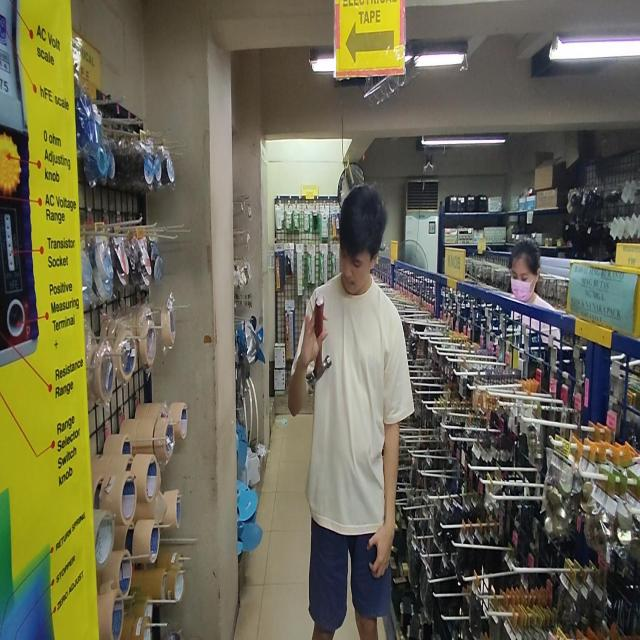hammer: (308, 296, 332, 388)
